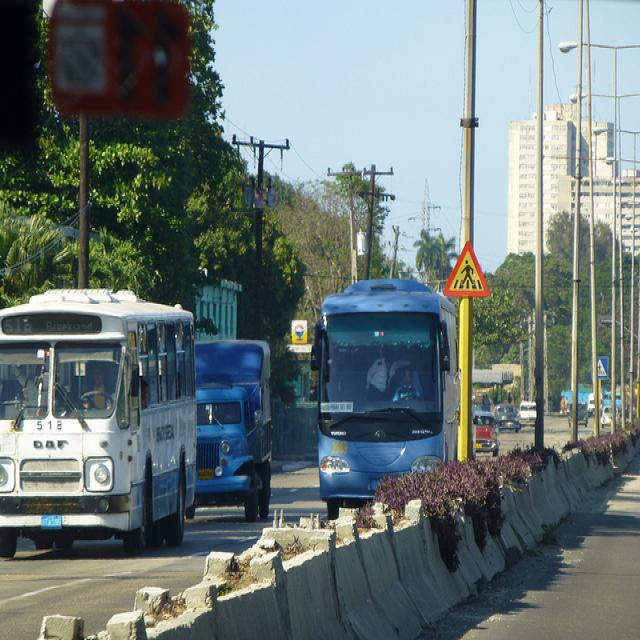Vehicle: (1, 287, 197, 564), (306, 277, 463, 524), (193, 336, 275, 530), (472, 410, 500, 458), (496, 402, 520, 431), (566, 402, 588, 427), (518, 399, 538, 426), (519, 401, 537, 422), (599, 405, 611, 430), (587, 394, 595, 416), (616, 405, 622, 424)
